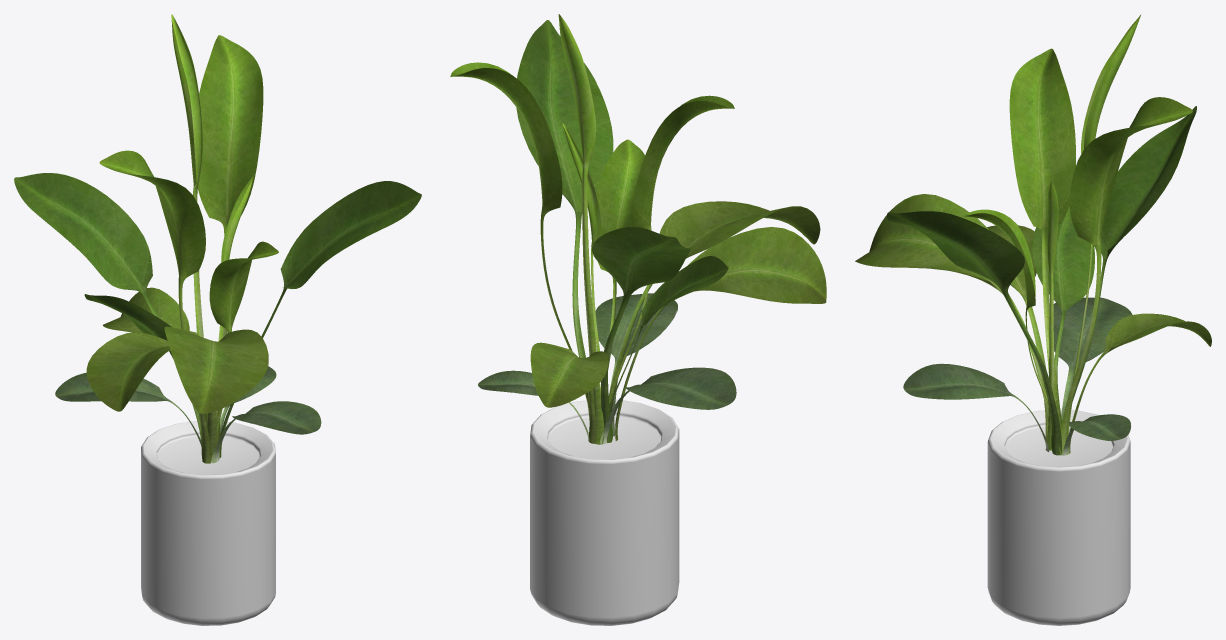
Rendered from GenericProp-WiltedPlant.fbx.
3 renders of one model, left to right at view 1: azimuth 30°, elevation 25°; view 2: azimuth 150°, elevation 25°; view 3: azimuth 270°, elevation 25°, orthographic. The views are drawn at different scales.
Visible parts, largest first — view 1: Plant; view 2: Plant; view 3: Plant.
Part boxes in pixels (x1,y1,x2,y2): Plant: (14,14,421,625); Plant: (450,14,826,625); Plant: (855,15,1211,625).
Bounding box in the file's own units: 68.82 × 128 × 70.42.
